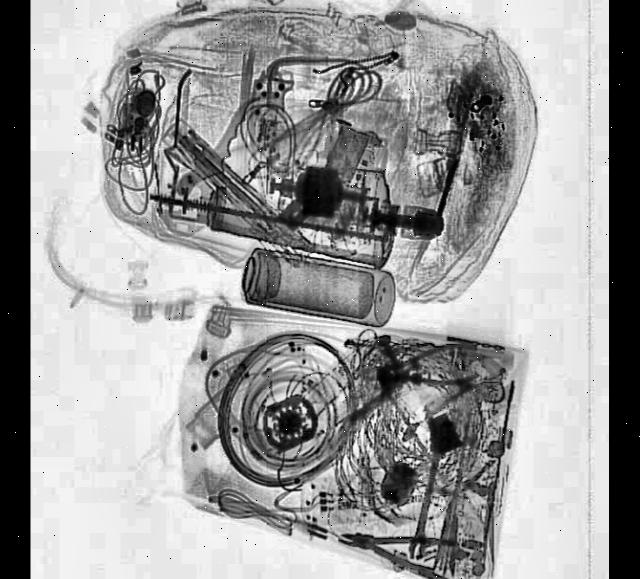Pliers: (336, 513, 468, 579), (376, 341, 483, 400)
Wrench: (408, 448, 448, 562)
